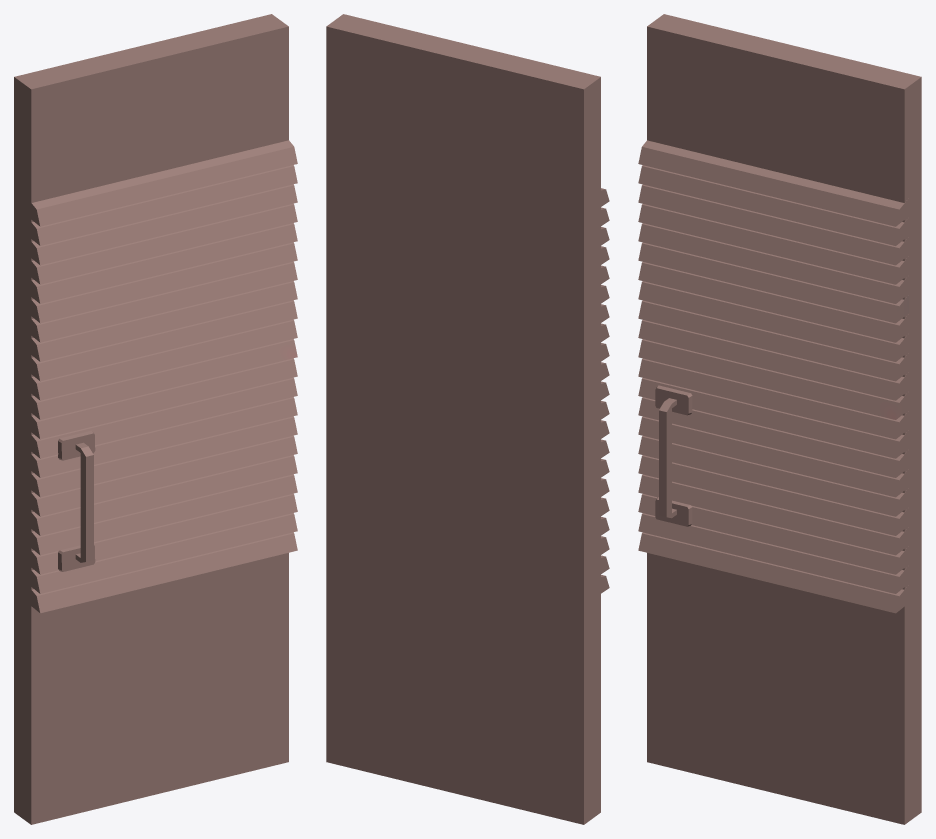
The picture shows the model from 3 angles, left to right: view 1: azimuth 30°, elevation 25°; view 2: azimuth 150°, elevation 25°; view 3: azimuth 330°, elevation 25°; orthographic projection.
Parts seen in each view (by area): view 1: SM_H2_D3; view 2: SM_H2_D3; view 3: SM_H2_D3.
Boxes of the visible parts, left/top/right/bottom form: SM_H2_D3: left=14, top=14, right=297, bottom=824; SM_H2_D3: left=326, top=14, right=609, bottom=824; SM_H2_D3: left=638, top=14, right=921, bottom=824.
Bounding box in the file's own units: 103 × 26.53 × 280.
1 material, 1 textured.
